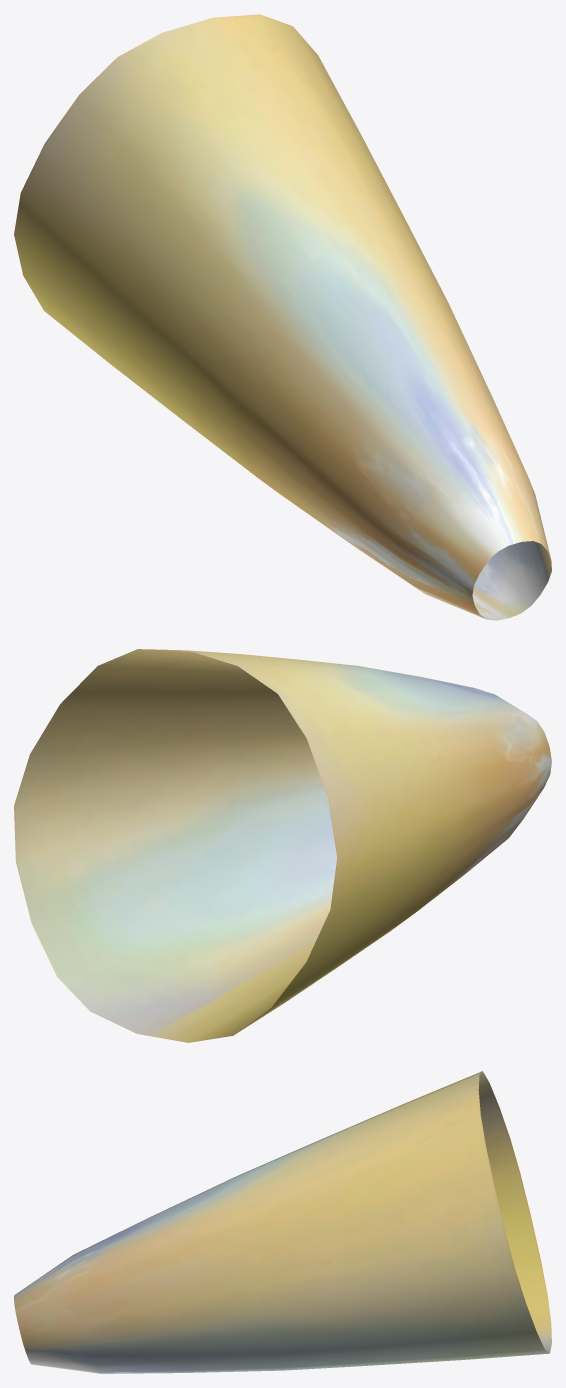
3 views of the same model, one above another, from view 1: azimuth 30°, elevation 25°; view 2: azimuth 150°, elevation 25°; view 3: azimuth 270°, elevation 25° (orthographic). The views are drawn at different scales.
Parts seen in each view (by area): view 1: banyuaun__2_; view 2: banyuaun__2_; view 3: banyuaun__2_.
Boxes of the visible parts, x1=… form: banyuaun__2_: x1=14, y1=14, x2=551, y2=620; banyuaun__2_: x1=14, y1=649, x2=551, y2=1042; banyuaun__2_: x1=14, y1=1071, x2=551, y2=1373.
Bounding box in the file's own units: 585 × 675 × 1168.
